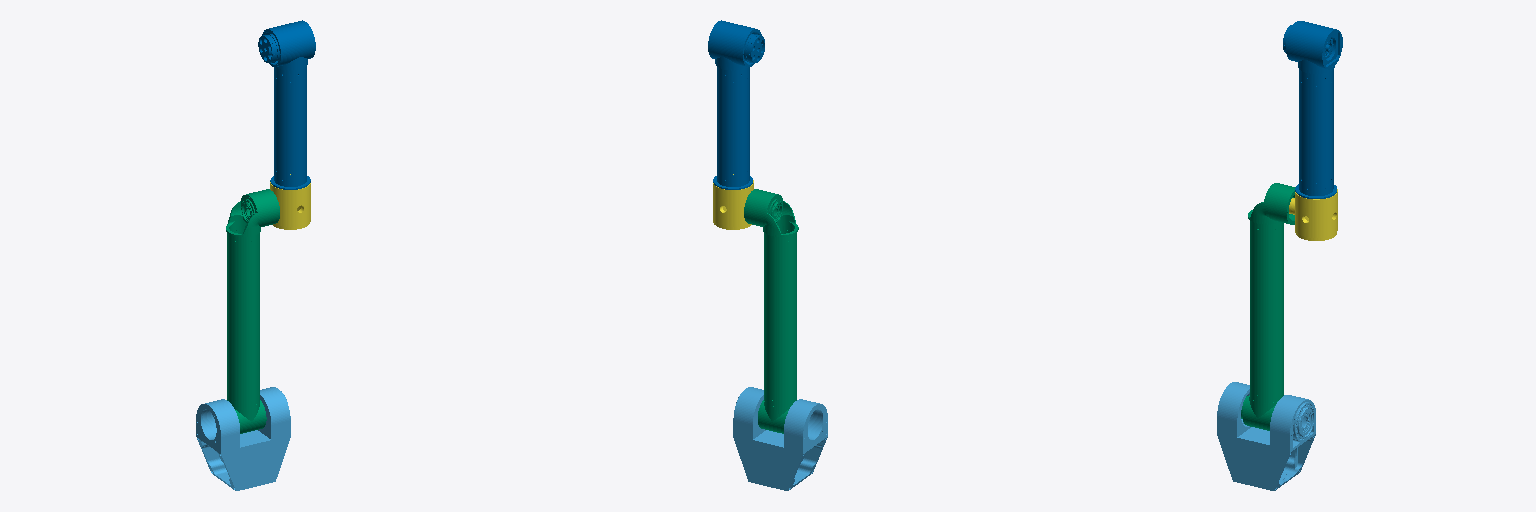
URDF robot description (rover_arm):
<?xml version="1.0"?>
<robot name="rover_arm">

  <!--DEFINING ROBOT LINKS IN ORDER FROM BASE TO HAND-->
  <link name="base_link">
    <visual>
      <origin rpy="0 0 0" xyz="0 0 0"/>
      <geometry>
        <mesh filename="package://rover_arm_urdf/urdf/dae_files/base_link.dae"/>
      </geometry>
    </visual>
    <collision>
      <origin rpy="0 0 0" xyz="0 0 0"/>
      <geometry>
        <mesh filename="package://rover_arm_urdf/urdf/stl_files/base_link.stl"/>
      </geometry>
    </collision>
  </link>
  
  <link name="arm_link_0">
    <visual>
      <origin rpy="0 0 0" xyz="-0.043 -0.056 0"/>
      <geometry>
        <mesh filename="package://rover_arm_urdf/urdf/dae_files/arm_link_0.dae"/>
      </geometry>
    </visual>
    <collision>
      <origin rpy="0 0 0" xyz="-0.043 -0.056 0"/>
      <geometry>
        <mesh filename="package://rover_arm_urdf/urdf/stl_files/arm_link_0.stl"/>
      </geometry>
    </collision>
    <inertial>
      <mass value="1"/>
      <inertia ixx="1.0" ixy="0.0" ixz="0.0" iyy="1.0" iyz="0.0" izz="1.0"/>
    </inertial>
  </link>

  <link name="arm_link_1">
    <visual>
      <origin rpy="0 0 0" xyz="0 0 0"/>
      <geometry>
        <mesh filename="package://rover_arm_urdf/urdf/dae_files/arm_link_1.dae"/>
      </geometry>
    </visual>
    <collision>
      <origin rpy="0 0 0" xyz="0 0 0"/>
      <geometry>
        <mesh filename="package://rover_arm_urdf/urdf/stl_files/arm_link_1.stl"/>
      </geometry>
    </collision>
    <inertial>
      <mass value="1"/>
      <inertia ixx="1.0" ixy="0.0" ixz="0.0" iyy="1.0" iyz="0.0" izz="1.0"/>
    </inertial>
  </link>

  <link name="arm_link_2">
    <visual>
      <origin rpy="0 0 0" xyz="0.063 0.000654 -0.040895"/>
      <geometry>
        <mesh filename="package://rover_arm_urdf/urdf/dae_files/arm_link_2.dae"/>
      </geometry>
    </visual>
    <collision>
      <origin rpy="0 0 0" xyz="0.063 0.000654 -0.040895"/>
      <geometry>
        <mesh filename="package://rover_arm_urdf/urdf/stl_files/arm_link_2.stl"/>
      </geometry>
    </collision>
    <inertial>
      <mass value="1"/>
      <inertia ixx="1.0" ixy="0.0" ixz="0.0" iyy="1.0" iyz="0.0" izz="1.0"/>
    </inertial>
  </link>

  <link name="arm_link_3">
    <visual>
      <origin rpy="0 0 0" xyz="0 0 -0.0086"/>
      <geometry>
        <mesh filename="package://rover_arm_urdf/urdf/dae_files/arm_link_3.dae"/>
      </geometry>
    </visual>
    <collision>
      <origin rpy="0 0 0" xyz="0 0 -0.0086"/>
      <geometry>
        <mesh filename="package://rover_arm_urdf/urdf/stl_files/arm_link_3.stl"/>
      </geometry>
    </collision>
    <inertial>
      <mass value="1"/>
      <inertia ixx="1.0" ixy="0.0" ixz="0.0" iyy="1.0" iyz="0.0" izz="1.0"/>
    </inertial>
  </link>

  <link name="arm_link_4">
    <visual>
      <origin rpy="0 0 1.57079632679" xyz="0 0 0"/>
      <geometry>
        <mesh filename="package://rover_arm_urdf/urdf/dae_files/arm_link_4.dae"/>
      </geometry>
    </visual>
    <collision>
      <origin rpy="0 0 1.57079632679" xyz="0 0 0"/>
      <geometry>
        <mesh filename="package://rover_arm_urdf/urdf/stl_files/arm_link_4.stl"/>
      </geometry>
    </collision>
    <inertial>
      <mass value="1"/>
      <inertia ixx="1.0" ixy="0.0" ixz="0.0" iyy="1.0" iyz="0.0" izz="1.0"/>
    </inertial>
  </link>

  <link name="arm_gripper">
    <visual>
      <origin rpy="0 0 0" xyz="-0.038106 0.015875 0.14921"/>
      <geometry>
        <mesh filename="package://rover_arm_urdf/urdf/dae_files/arm_gripper.dae"/>
      </geometry>
    </visual>
    <collision>
      <origin rpy="0 0 0" xyz="-0.038106 0.015875 0.14921"/>
      <geometry>
        <mesh filename="package://rover_arm_urdf/urdf/stl_files/arm_gripper.stl"/>
      </geometry>
    </collision>
    <inertial>
      <mass value="1"/>
      <inertia ixx="1.0" ixy="0.0" ixz="0.0" iyy="1.0" iyz="0.0" izz="1.0"/>
    </inertial>
  </link>



  <joint name="base_joint" type="revolute">
    <parent link="base_link"/>
    <child link="arm_link_0"/>
    <origin rpy="0 0 0" xyz="0 0.055 0.087245"/>
    <axis xyz="0 0 1"/>
    <limit effort="1000.0" lower="-1.57079632679" upper="1.57079632679" velocity="2.5"/>
  </joint>

  <joint name="shoulder_joint" type="revolute">
    <parent link="arm_link_0"/>
    <child link="arm_link_1"/>
    <origin rpy="0 0 0" xyz="0 0 0.151443"/>
    <axis xyz="1 0 0"/>
    <limit effort="1000.0" lower="-1.57079632679" upper="1.57079632679" velocity="2.5"/>
  </joint>

  <joint name="elbow_pitch_joint" type="revolute">
    <parent link="arm_link_1"/>
    <child link="arm_link_2"/>
    <origin rpy="0 0 0" xyz="0.05925 0 0.501983"/>
    <axis xyz="1 0 0"/>
    <limit effort="1000.0" lower="-1.57079632679" upper="1.57079632679" velocity="2.5"/>
  </joint>

  <joint name="elbow_roll_joint" type="revolute">
    <parent link="arm_link_2"/>
    <child link="arm_link_3"/>
    <origin rpy="0 0 0" xyz="0.063 0.000654 0.059505"/>
    <axis xyz="0 0 1"/>
    <limit effort="1000.0" lower="-3.141592653589793" upper="3.141592653589793" velocity="2.5"/>
  </joint>

  <joint name="wrist_pitch_joint" type="revolute">
    <parent link="arm_link_3"/>
    <child link="arm_link_4"/>
    <origin rpy="0 0 0" xyz="-0.065 0 0.3318"/>
    <axis xyz="1 0 0"/>
    <limit effort="1000.0" lower="-1.57079632679" upper="3.141592653589793" velocity="2.5"/>
  </joint>

  <joint name="wrist_roll_joint" type="continuous">
    <parent link="arm_link_4"/>
    <child link="arm_gripper"/>
    <origin rpy="0 0 0" xyz="-0.050 0 0.050484"/>
    <axis xyz="0 0 1"/>
    <limit effort="1000.0" velocity="2.5"/>
  </joint>

</robot>

--- Facts derived from the render (not from the file) ---
Views: 3 orthographic renders of the robot side by side, from view 1: azimuth 30°, elevation 25°; view 2: azimuth 150°, elevation 25°; view 3: azimuth 330°, elevation 25°.
Robot: rover_arm — 7 links, 6 joints (5 revolute, 1 continuous); root link base_link; default pose: all joints at 0.
Links seen in each view (by area): view 1: arm_link_1, arm_link_0, arm_link_3, arm_link_2; view 2: arm_link_1, arm_link_0, arm_link_3, arm_link_2; view 3: arm_link_1, arm_link_0, arm_link_3, arm_link_2.
Boxes of the visible links, left/top/right/bottom form: arm_link_1: left=226, top=189, right=279, bottom=433; arm_link_0: left=196, top=387, right=290, bottom=490; arm_link_3: left=258, top=20, right=315, bottom=189; arm_link_2: left=270, top=174, right=310, bottom=229; arm_link_1: left=744, top=189, right=798, bottom=433; arm_link_0: left=733, top=387, right=827, bottom=490; arm_link_3: left=708, top=20, right=764, bottom=189; arm_link_2: left=713, top=174, right=753, bottom=229; arm_link_1: left=1241, top=183, right=1295, bottom=430; arm_link_0: left=1217, top=382, right=1315, bottom=490; arm_link_3: left=1283, top=21, right=1342, bottom=198; arm_link_2: left=1289, top=189, right=1337, bottom=240.
Size in the robot's own frame: 0.2582 by 0.112 by 1.09 metres.
4 mesh visuals loaded from 7 distinct referenced files (4 Collada DAE); not drawn: 3 (reference not matched to a file when rendering).